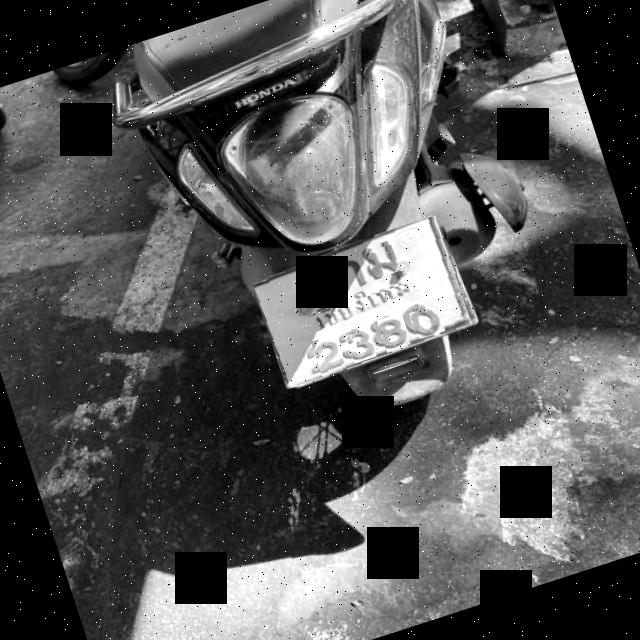letters: (327, 252, 372, 298), (312, 333, 349, 380), (296, 268, 337, 308), (377, 312, 412, 352), (410, 304, 446, 340), (366, 244, 400, 280), (347, 328, 378, 364)
license-plate: (253, 217, 471, 388)
province: (308, 280, 426, 332)
